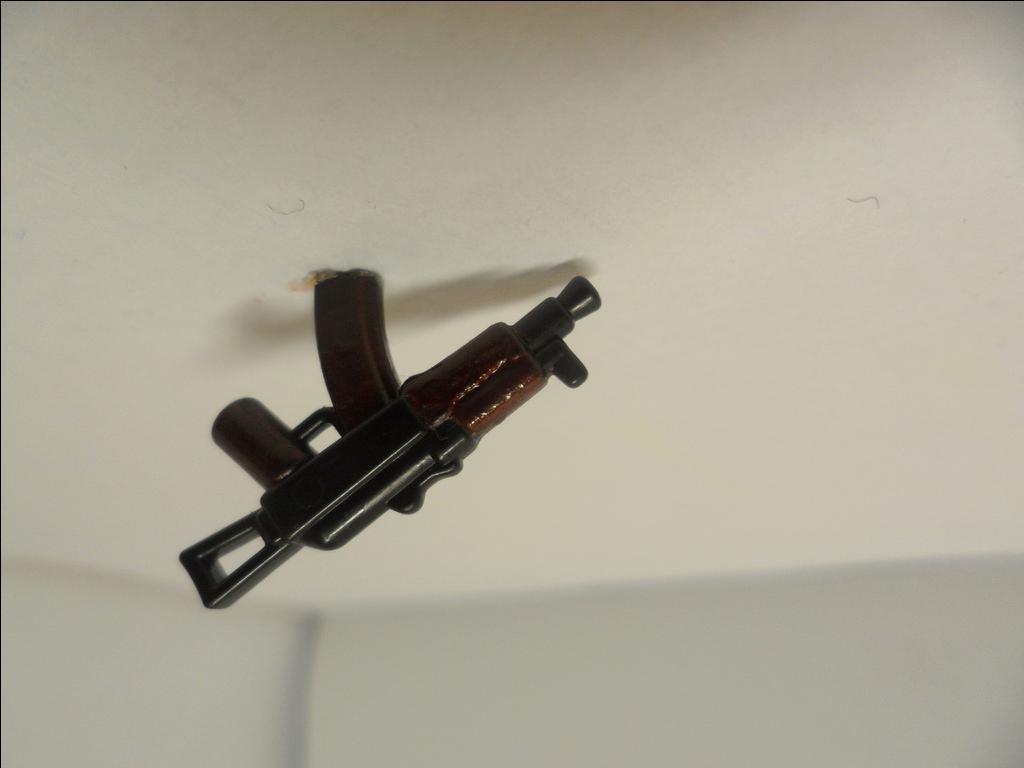gun: (178, 262, 598, 616)
